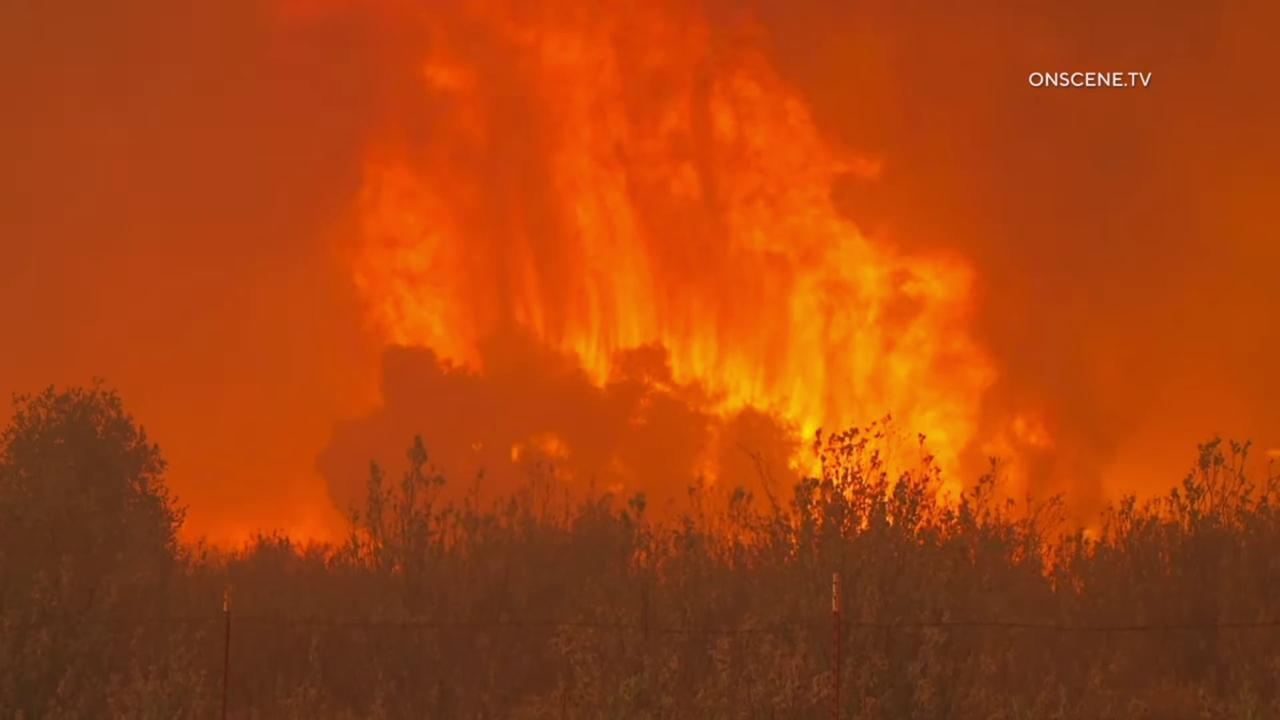fire: (326, 0, 1059, 542)
smoke: (0, 0, 1280, 612)
